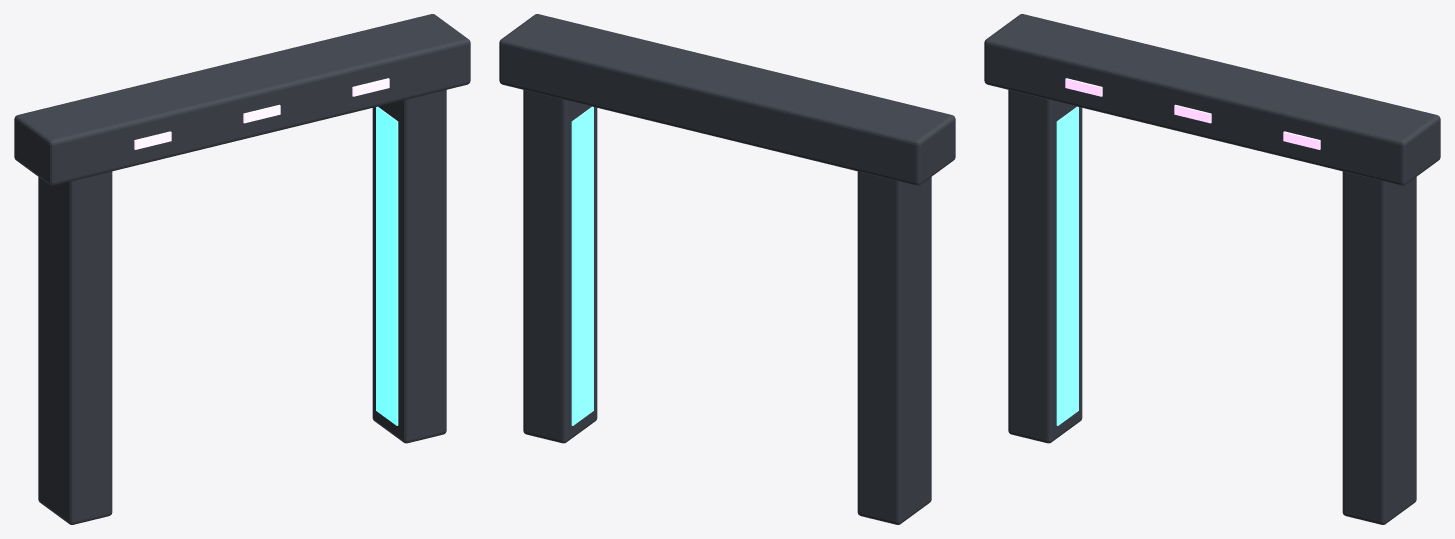
The model's file is arch.glb.
3 views of the same model, side by side, from view 1: azimuth 30°, elevation 25°; view 2: azimuth 150°, elevation 25°; view 3: azimuth 330°, elevation 25° (orthographic).
Parts seen in each view (by area): view 1: Arch; view 2: Arch; view 3: Arch.
Part boxes in pixels (bbox=[...]): Arch: bbox=[14, 14, 470, 524]; Arch: bbox=[499, 14, 955, 524]; Arch: bbox=[984, 14, 1440, 524].
Size of the model in its own units: 5.8 by 5.15 by 0.925.
